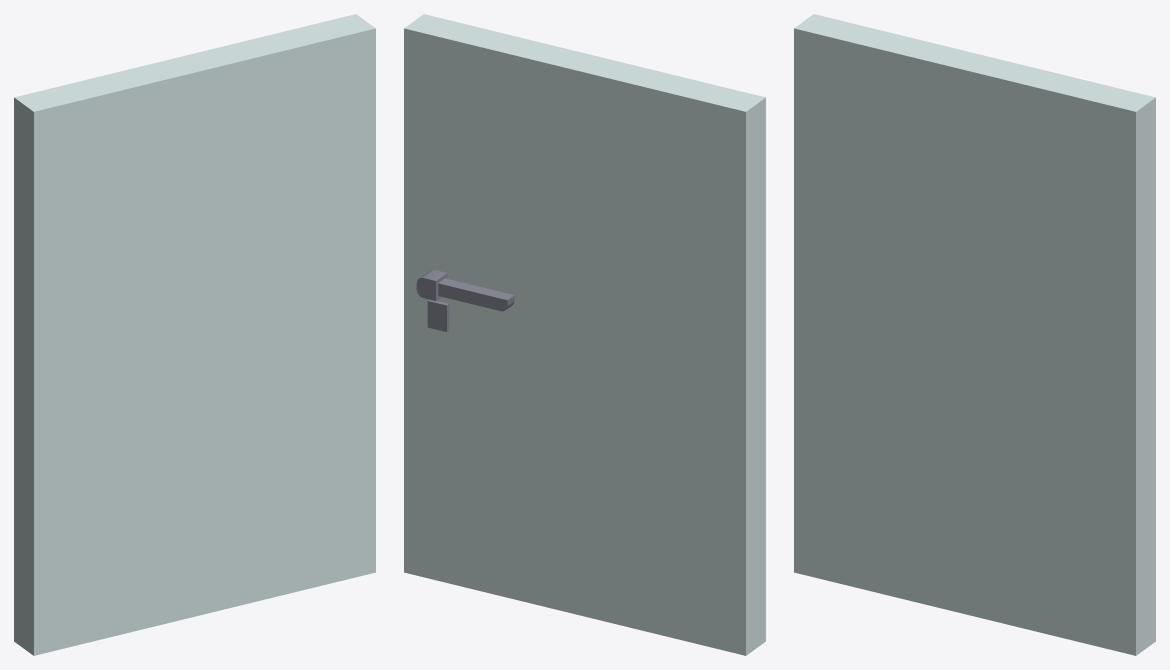
Rendered from puerta.fbx.
3 renders of one model, left to right at view 1: azimuth 30°, elevation 25°; view 2: azimuth 150°, elevation 25°; view 3: azimuth 330°, elevation 25°, orthographic.
Parts seen in each view (by area): view 1: puerta; view 2: puerta; view 3: puerta.
Boxes of the visible parts, <box> form: puerta: <box>14,14,375,655</box>; puerta: <box>404,14,765,655</box>; puerta: <box>794,14,1155,655</box>.
Bounding box in the file's own units: 250 × 380 × 40.35.
